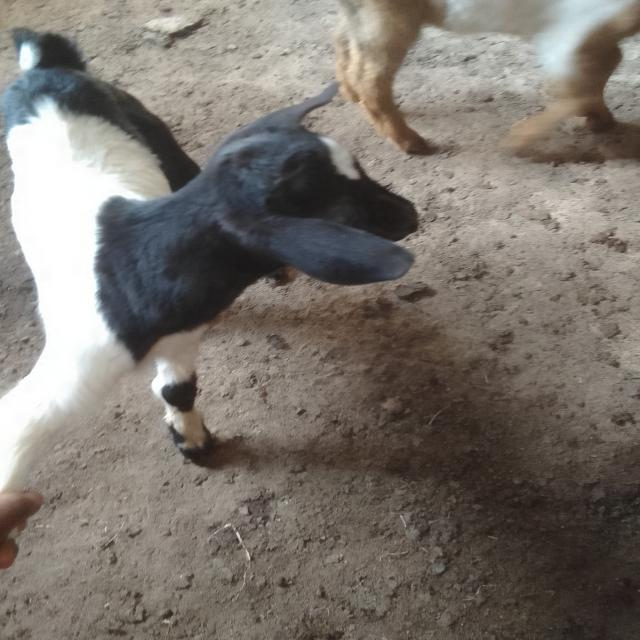goat: (0, 0, 482, 610)
